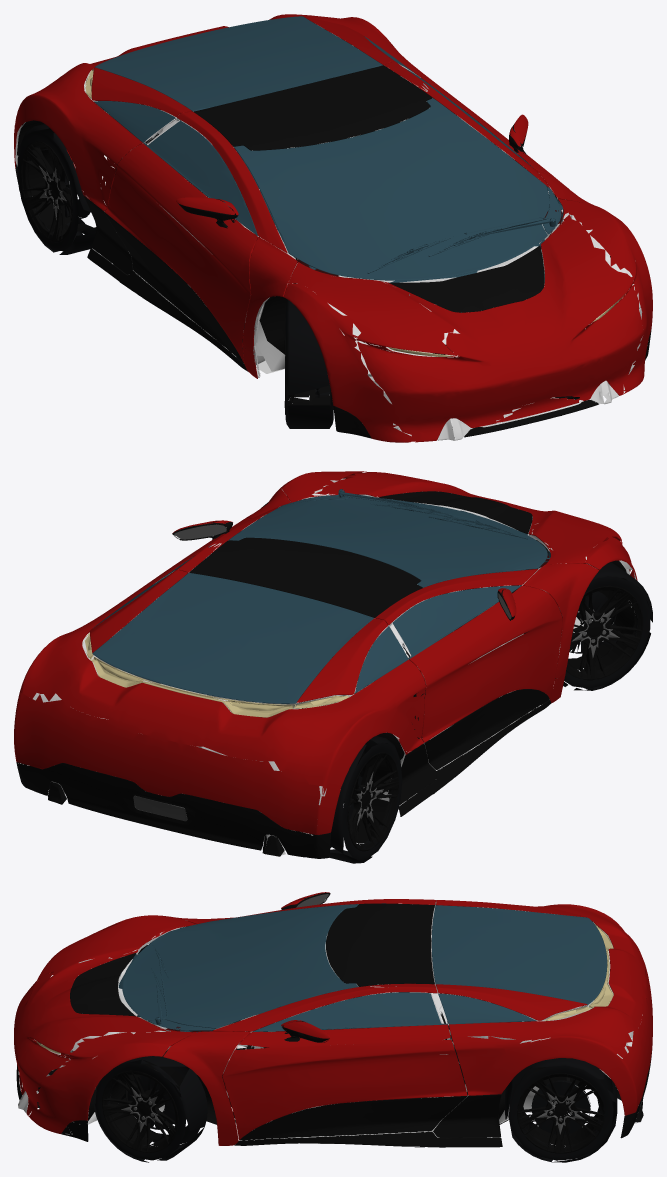
The model's file is car_concept_realistic.obj.
The picture shows the model from 3 angles, top to bottom: view 1: azimuth 30°, elevation 25°; view 2: azimuth 150°, elevation 25°; view 3: azimuth 270°, elevation 25°; orthographic projection. The views are drawn at different scales.
Visible parts, largest first — view 1: part_8__Paint_1_Carmine, part_10__Glass, part_9__Paint_2_Carmine, part_3__Tiretread, part_5__Rim1, part_2__Tireside, part_1__Mechanical, part_22__material_64, part_44__material_107, part_41__material_101, part_20__material_61, part_16__Interior_1; view 2: part_8__Paint_1_Carmine, part_10__Glass, part_9__Paint_2_Carmine, part_5__Rim1, part_2__Tireside, part_3__Tiretread, part_24__material_70, part_1__Mechanical, part_44__material_107, part_16__Interior_1, part_4__Rim2, part_27__License (+2 smaller); view 3: part_8__Paint_1_Carmine, part_10__Glass, part_9__Paint_2_Carmine, part_5__Rim1, part_2__Tireside, part_3__Tiretread, part_7__Disc, part_1__Mechanical, part_4__Rim2, part_16__Interior_1, part_24__material_70, part_22__material_64 (+3 smaller).
Boxes of the visible parts, x1,y1,x2,y2 form: part_8__Paint_1_Carmine: (14,14,652,442); part_10__Glass: (94,16,549,280); part_9__Paint_2_Carmine: (15,65,651,438); part_3__Tiretread: (17,124,332,428); part_5__Rim1: (20,141,332,414); part_2__Tireside: (17,131,333,423); part_1__Mechanical: (17,120,610,438); part_22__material_64: (292,209,648,439); part_44__material_107: (367,217,555,273); part_41__material_101: (16,112,640,437); part_20__material_61: (437,380,618,440); part_16__Interior_1: (15,33,551,322); part_8__Paint_1_Carmine: (14,471,637,834); part_10__Glass: (92,497,547,703); part_9__Paint_2_Carmine: (16,491,551,858); part_5__Rim1: (347,576,643,851); part_2__Tireside: (330,576,650,860); part_3__Tiretread: (19,502,652,863); part_24__material_70: (83,633,349,717); part_1__Mechanical: (48,520,627,856); part_44__material_107: (338,489,527,539); part_16__Interior_1: (33,502,528,845); part_4__Rim2: (356,608,619,825); part_27__License: (133,795,187,821); part_8__Paint_1_Carmine: (14,892,652,1145); part_10__Glass: (122,903,607,1031); part_9__Paint_2_Carmine: (16,892,652,1147); part_5__Rim1: (102,950,605,1153); part_2__Tireside: (95,945,613,1160); part_3__Tiretread: (93,1053,617,1162); part_7__Disc: (127,1075,590,1134); part_1__Mechanical: (37,1005,643,1138); part_4__Rim2: (121,1087,584,1134); part_16__Interior_1: (118,907,633,1113); part_24__material_70: (545,923,613,1020); part_22__material_64: (18,926,185,1134).
Bounding box in the file's own units: 2.54 × 1.15 × 4.36.
